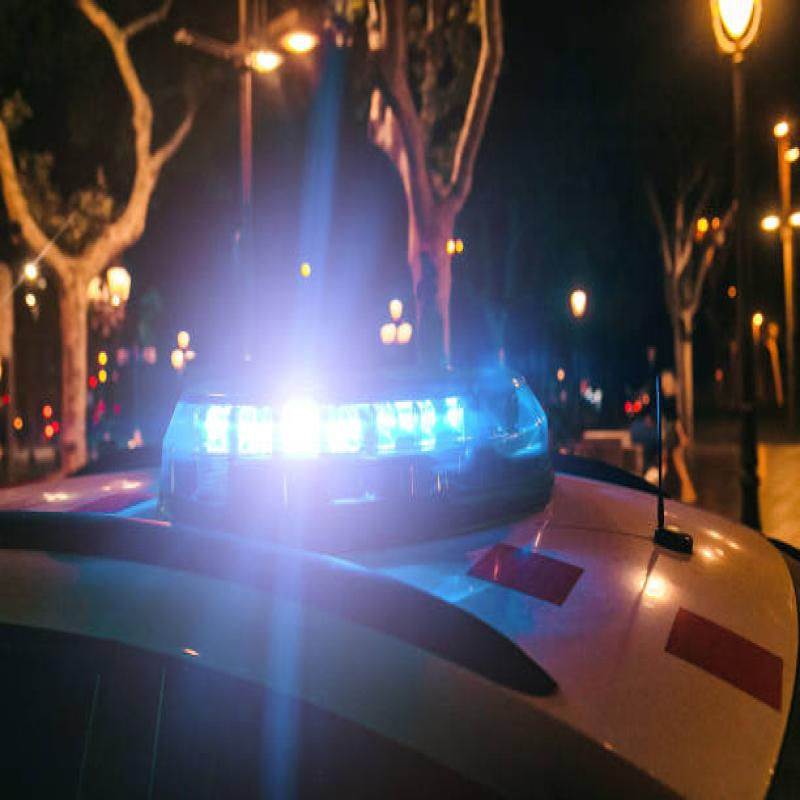AmbulanceSiren: (166, 379, 572, 513)
